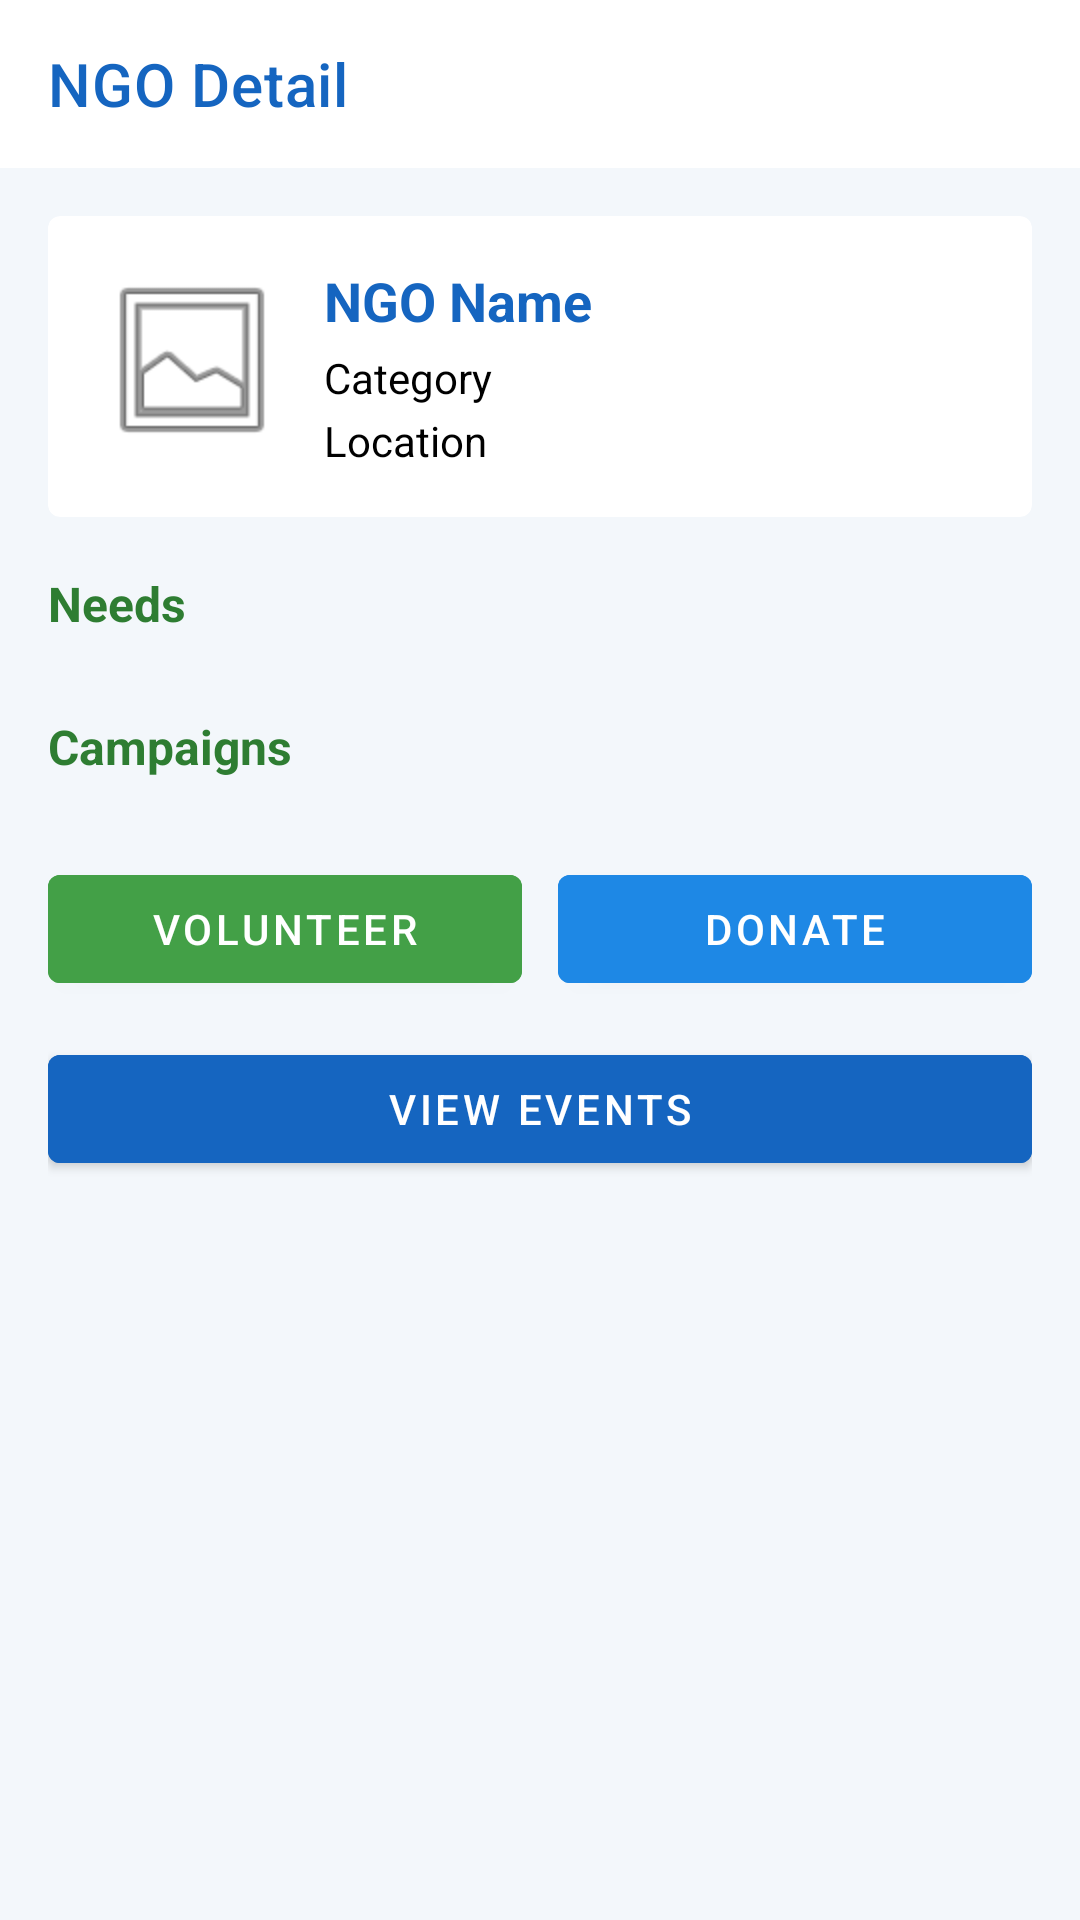

Named icons in this screenshot (1080*1920) and their bounding boxes, bbox(x1, y1, x2, y2):
gallery: bbox(120, 287, 264, 433)
